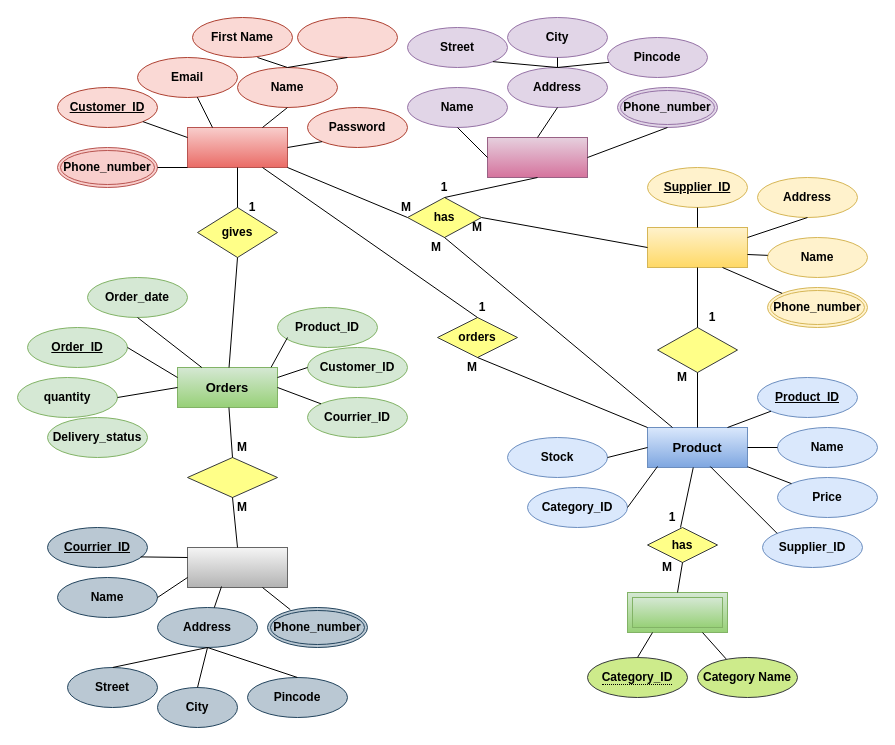
The diagram is 895 pixels wide and 745 high, and some of its shapes have lost their labels. Here are the shapes that lost their labels. From the top down, the centre of each, then its label:
point (347, 37): Last Name
point (237, 147): Customer
point (537, 157): Shop
point (697, 247): Supplier
point (697, 349): supplies
point (232, 477): ships
point (237, 567): Courrier
point (677, 612): Category
